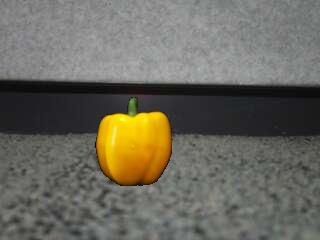Capsicum: (96, 97, 172, 187)
